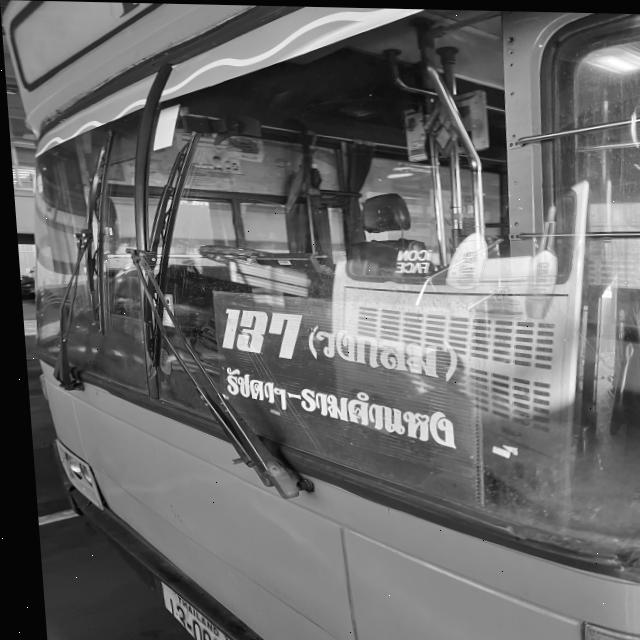BMTA-bus: (8, 0, 640, 640)
Destination Sign: (199, 285, 479, 500)
